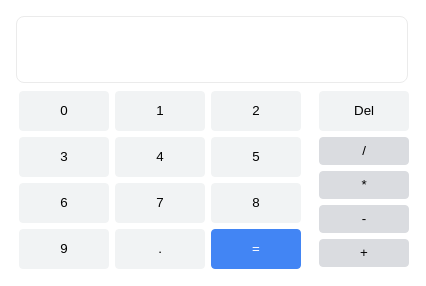
Test: renders space around operand
Click the button "2": (256, 110) x1=211 y1=90 x2=301 y2=130
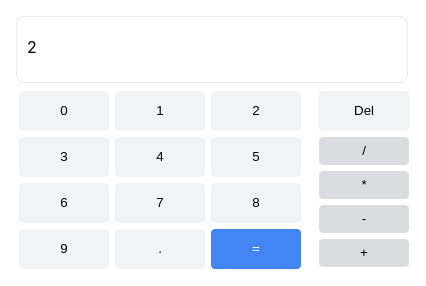
Click the button "-": (364, 218) x1=319 y1=204 x2=409 y2=232
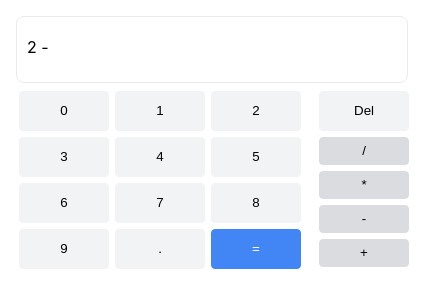
Click the button "2": (256, 110) x1=211 y1=90 x2=301 y2=130
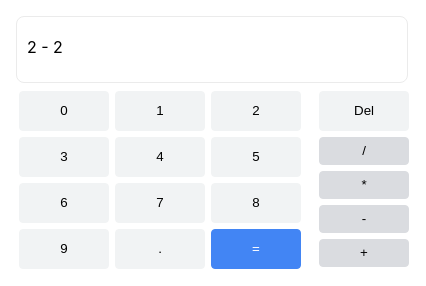
Expected: the text with test id "screen" reads "2 - 2", x1=27 y1=36 x2=63 y2=56
